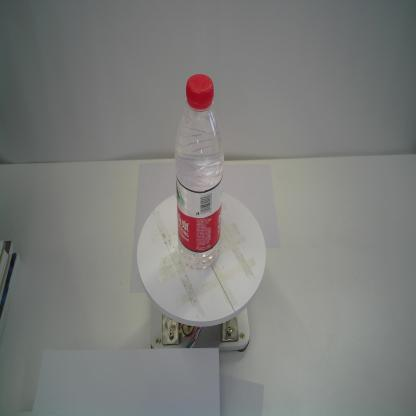Drink: (173, 73, 225, 270)
